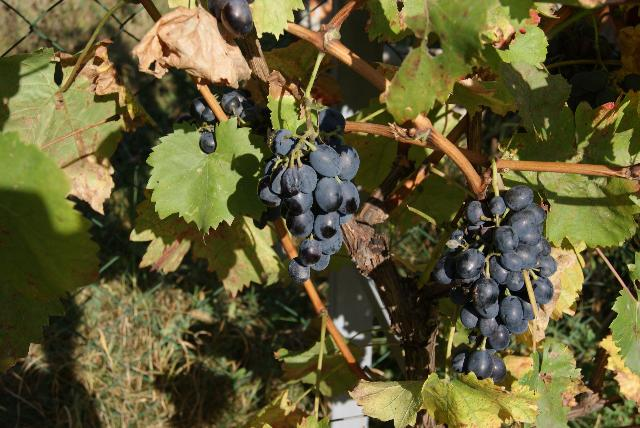grapes: (432, 185, 558, 382), (258, 109, 360, 280)
